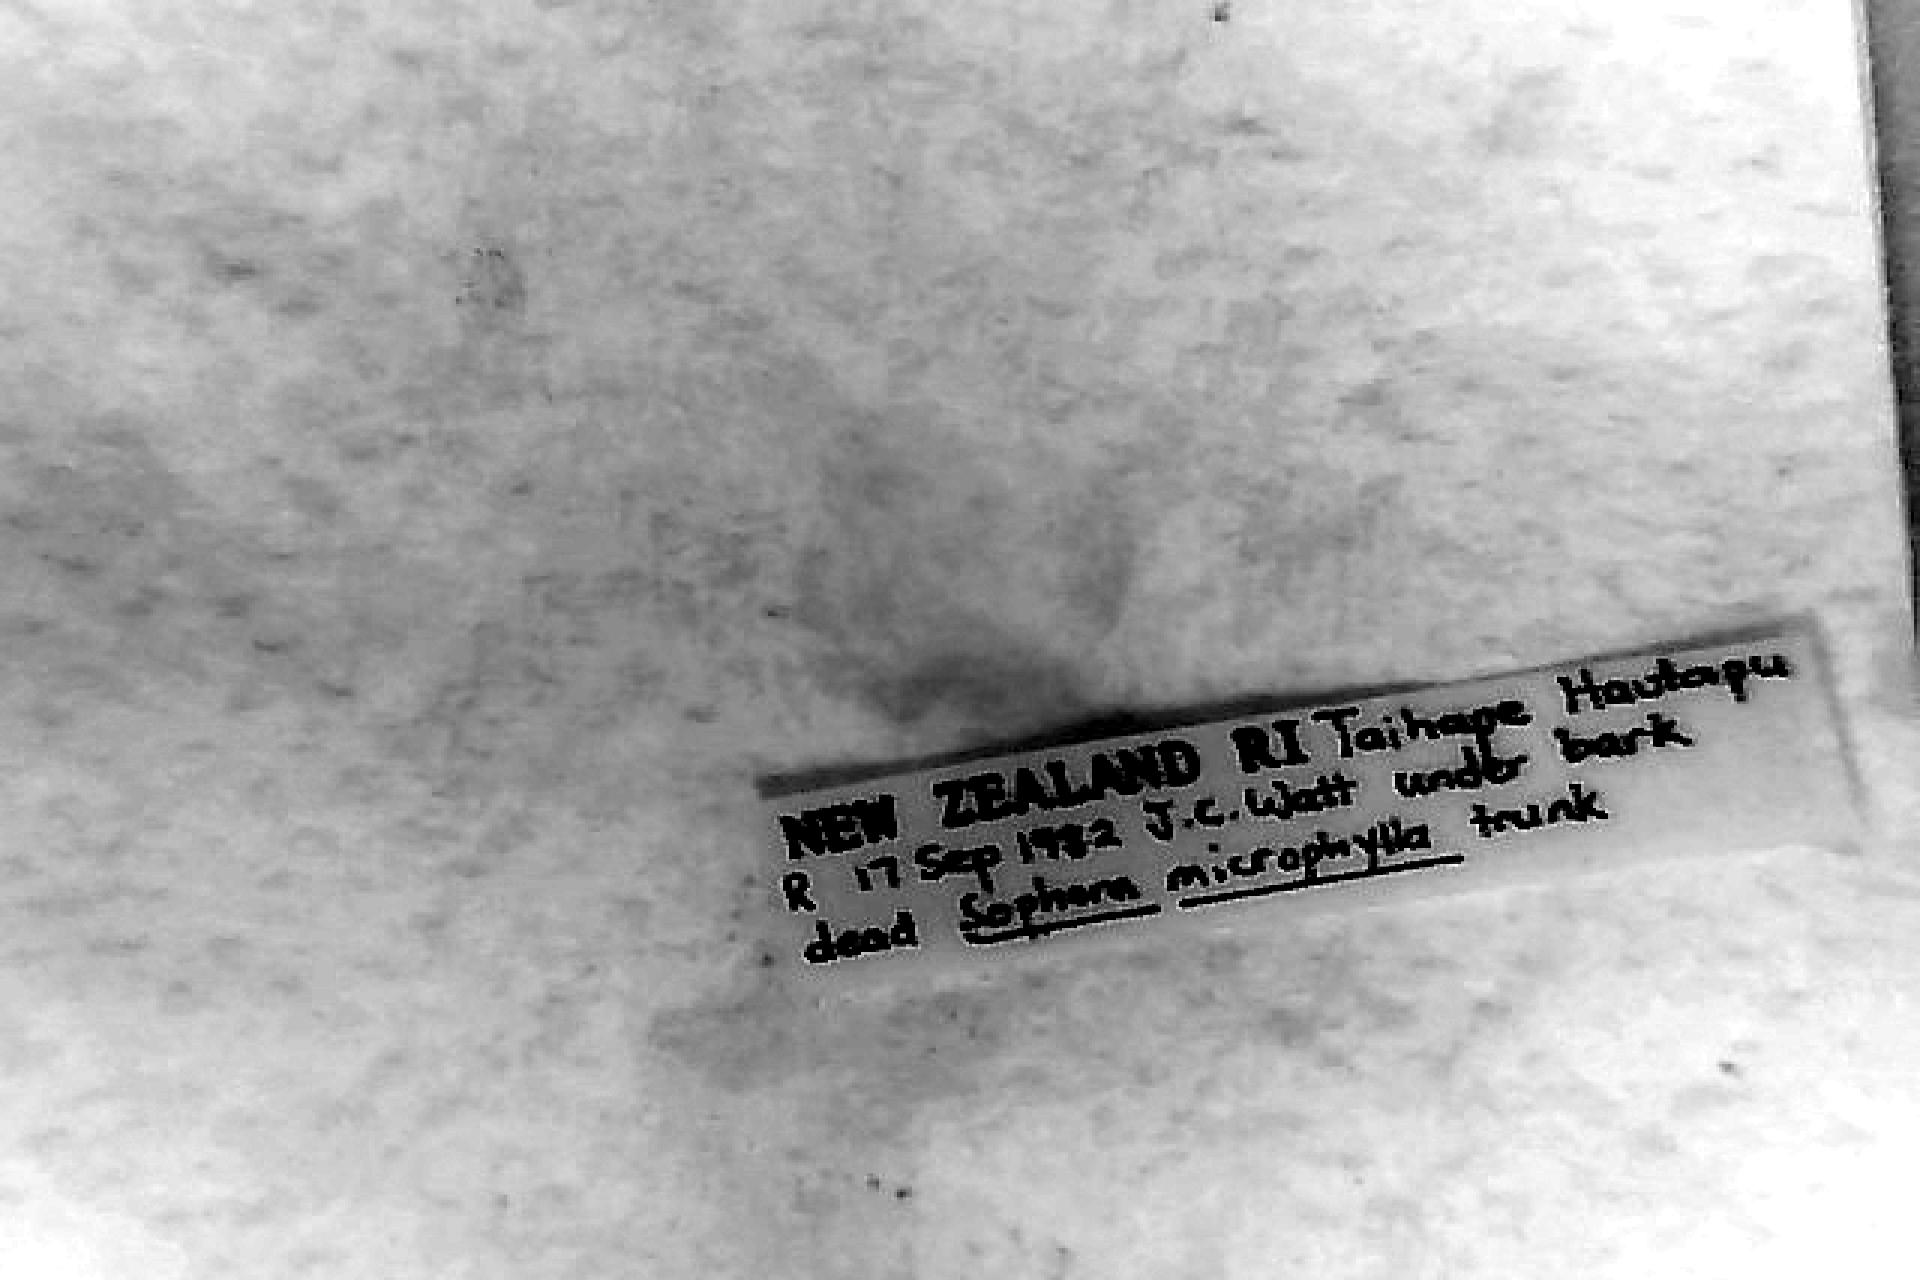mixed_label: (765, 627, 1856, 982)
